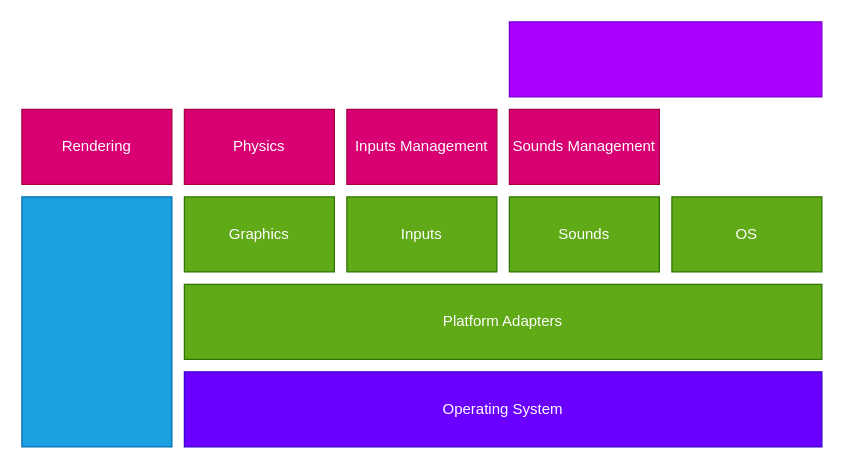
This 844x469 diagram has some shape labels left out. Each missing label, with the centre of its shape:
Core Features: (x=96, y=321)
UI: (x=665, y=59)
